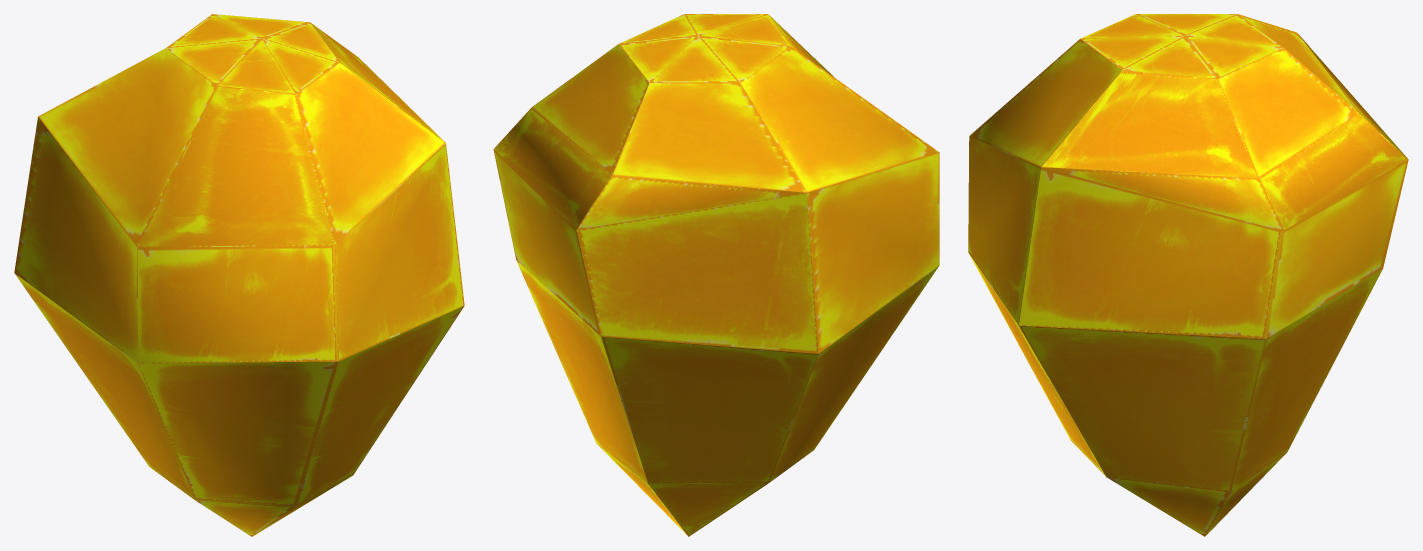
The model's file is CrystalYellow.fbx.
The picture shows the model from 3 angles, left to right: view 1: azimuth 30°, elevation 25°; view 2: azimuth 150°, elevation 25°; view 3: azimuth 270°, elevation 25°; orthographic projection. The views are drawn at different scales.
Visible parts, largest first — view 1: pCube5; view 2: pCube5; view 3: pCube5.
Part boxes in pixels (x1,y1,x2,y2): pCube5: [14, 14, 464, 536]; pCube5: [493, 14, 939, 536]; pCube5: [968, 14, 1408, 536].
Bounding box in the file's own units: 0.7622 × 1.07 × 0.8488.
1 material, 1 textured.
